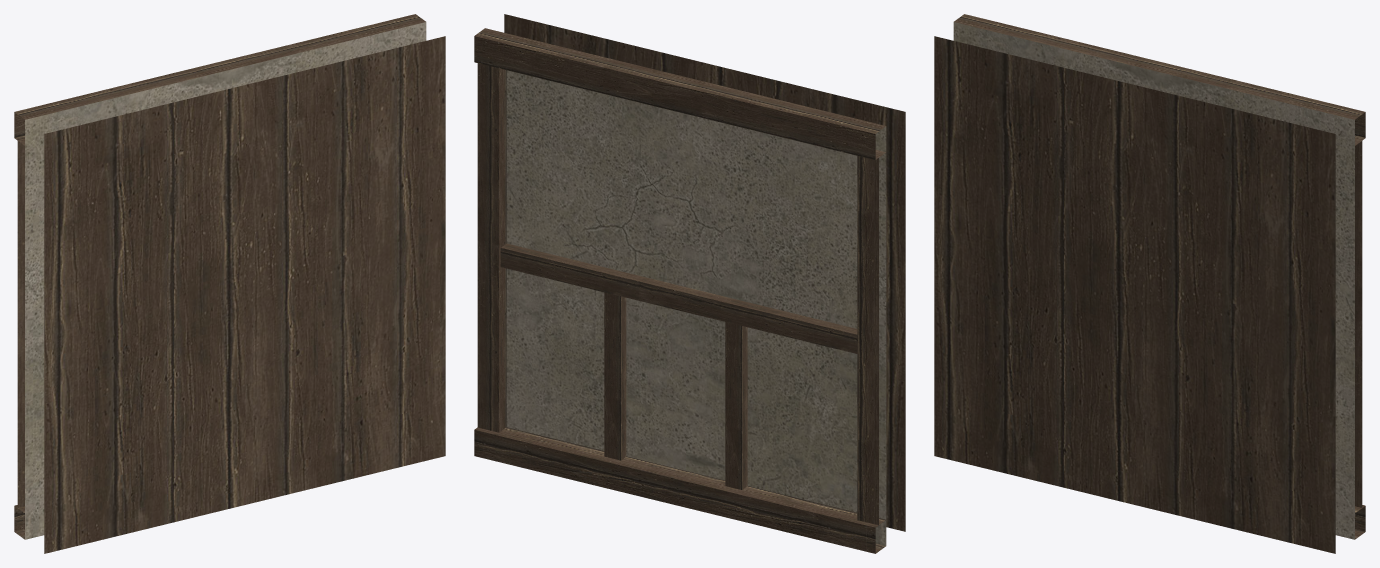
File: ARC1010298.fbx
3 views of the same model, side by side, from view 1: azimuth 30°, elevation 25°; view 2: azimuth 150°, elevation 25°; view 3: azimuth 330°, elevation 25° (orthographic).
Visible parts, largest first — view 1: smARC1010298; view 2: smARC1010298; view 3: smARC1010298.
Boxes of the visible parts, x1,y1,x2,y2 form: smARC1010298: [14, 14, 445, 553]; smARC1010298: [474, 14, 905, 553]; smARC1010298: [934, 14, 1365, 553].
Size of the model in its own units: 268 by 268 by 34.9.
1 material, 1 textured.
